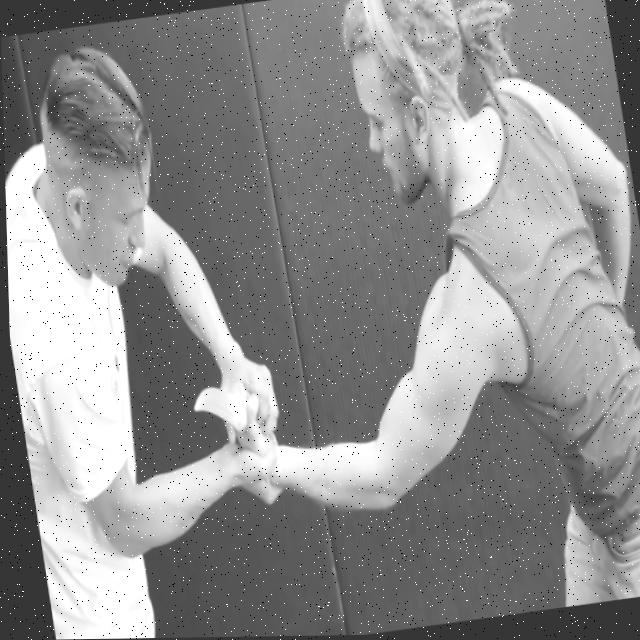knife: (185, 378, 250, 441)
